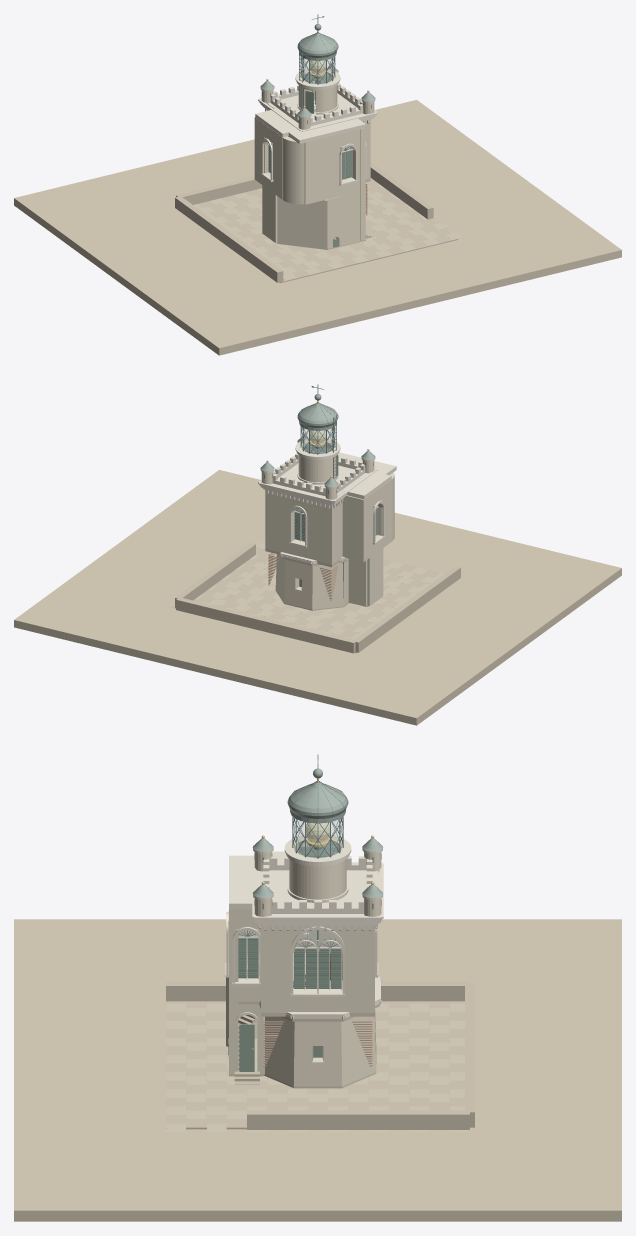
File: lighthouse-ours.glb
The picture shows the model from 3 angles, top to bottom: view 1: azimuth 30°, elevation 25°; view 2: azimuth 150°, elevation 25°; view 3: azimuth 270°, elevation 25°; orthographic projection. The views are drawn at different scales.
Size of the model in its own units: 34 by 17.51 by 30.
Materials: 17 (4 with a texture image).
